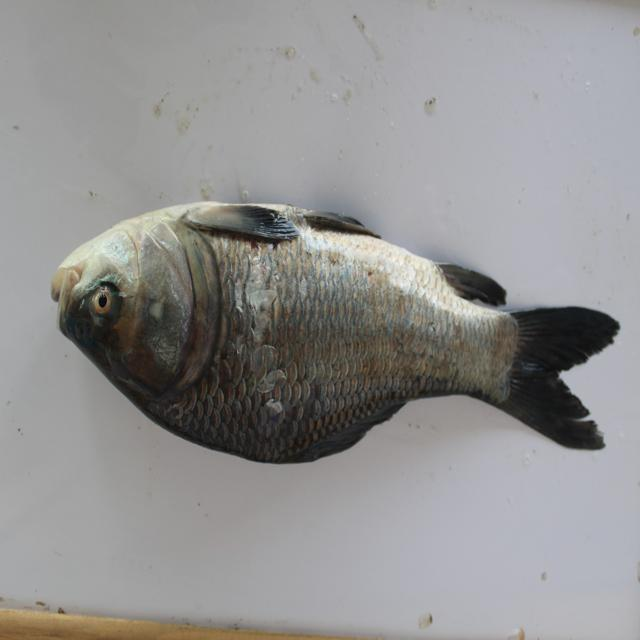Catla: (35, 195, 620, 466)
